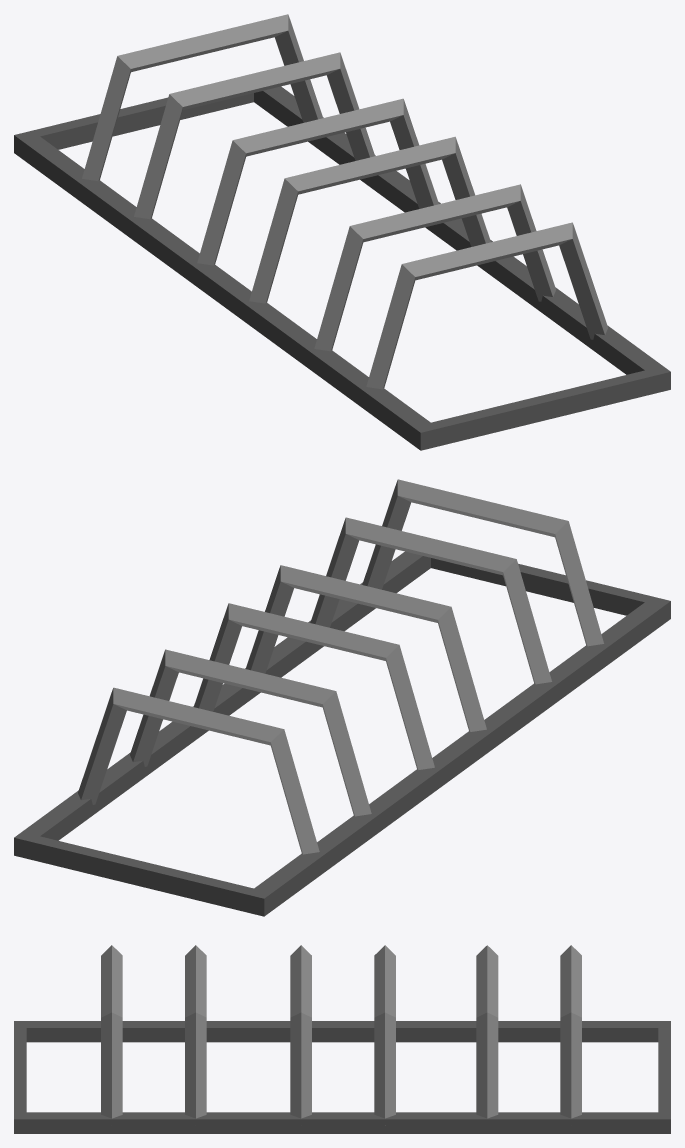
The model's file is BicycleParking_01.glb.
3 views of the same model, one above another, from view 1: azimuth 30°, elevation 25°; view 2: azimuth 150°, elevation 25°; view 3: azimuth 270°, elevation 25° (orthographic). The views are drawn at different scales.
Visible parts, largest first — view 1: BicycleParking_01; view 2: BicycleParking_01; view 3: BicycleParking_01.
Boxes of the visible parts, <box> form: BicycleParking_01: <box>14,14,670,450</box>; BicycleParking_01: <box>14,479,670,916</box>; BicycleParking_01: <box>14,945,670,1133</box>.
Size of what is drawn, in the model's own units: 0.8606 by 0.434 by 2.42.
1 material, 1 textured.
